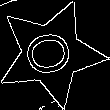O_E: (21, 27, 81, 80)
